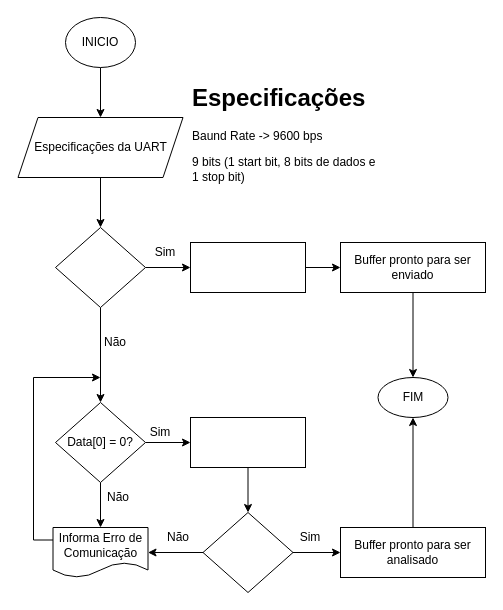
Image size: 503x610. Some labels were removed from this diagram. Here are the shapes that lost their labels. From the top down, the box of each, then its label:
(54, 226, 146, 308): Enviar?
(190, 242, 306, 292): Data[] = 0 & Mensagem & 1
(190, 416, 306, 468): Buffer <- Data[1..7]
(202, 512, 293, 592): Data[8] = 1?
